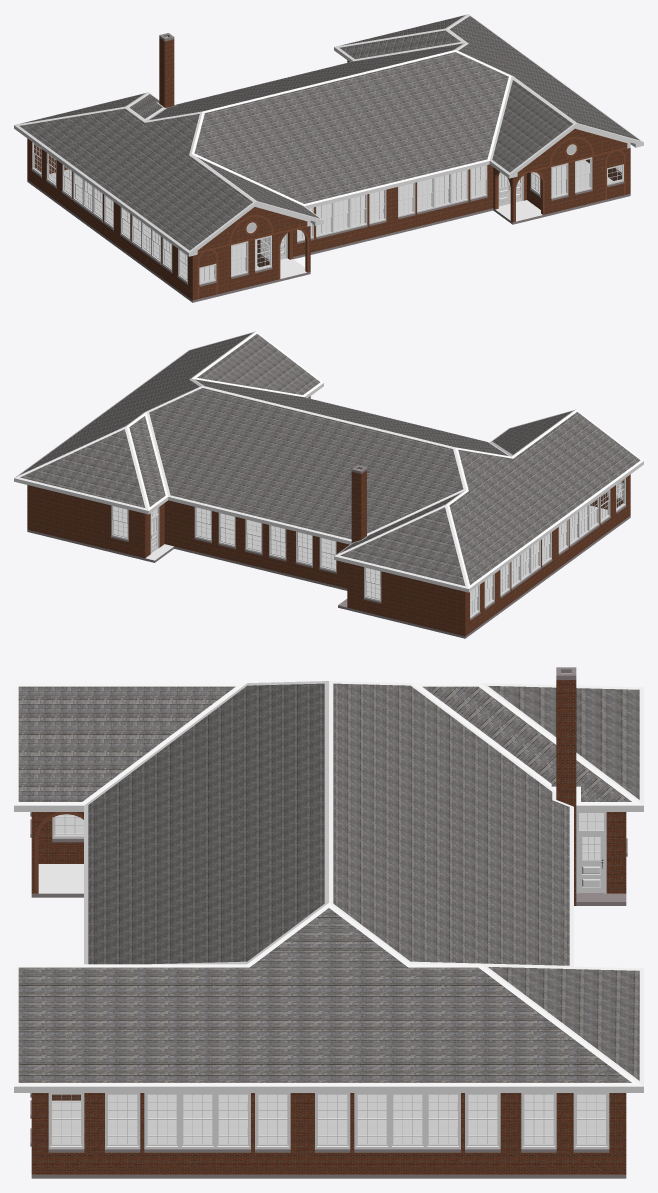
Rendered from Community_School.obj.
3 views of the same model, one above another, from view 1: azimuth 30°, elevation 25°; view 2: azimuth 150°, elevation 25°; view 3: azimuth 270°, elevation 25° (orthographic). The views are drawn at different scales.
Parts seen in each view (by area): view 1: Mesh37_Group1_Model; view 2: Mesh37_Group1_Model; view 3: Mesh37_Group1_Model.
Boxes of the visible parts, x1,y1,x2,y2 form: Mesh37_Group1_Model: (14, 14, 643, 302); Mesh37_Group1_Model: (14, 331, 643, 638); Mesh37_Group1_Model: (14, 667, 643, 1178).
Size of the model in its own units: 243 by 65.4 by 162.
